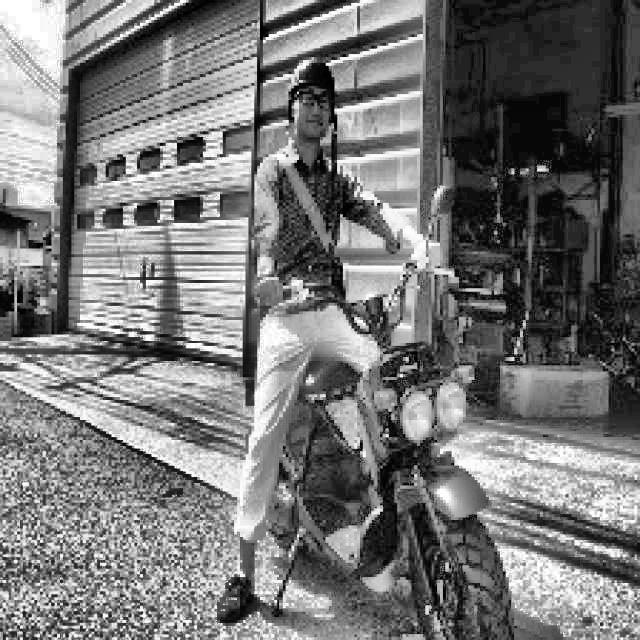motorcycle: (198, 182, 520, 632)
